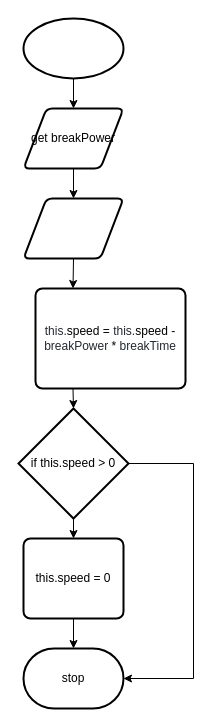
Image size: 219x726. Some labels were removed from this diagram. Each missing label, with the box of its shape:
get brakeTime: (22, 197, 124, 259)
start: (22, 17, 124, 79)
